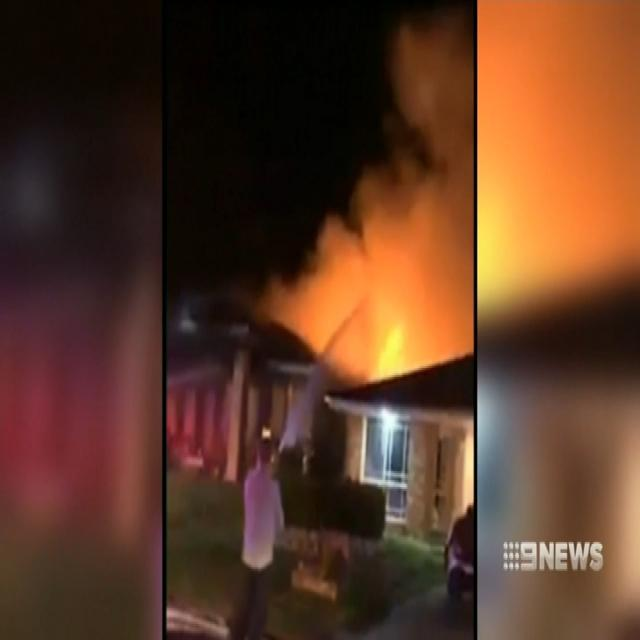Smoke: (348, 14, 470, 392)
